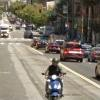Motorcycle: (35, 54, 76, 100)
